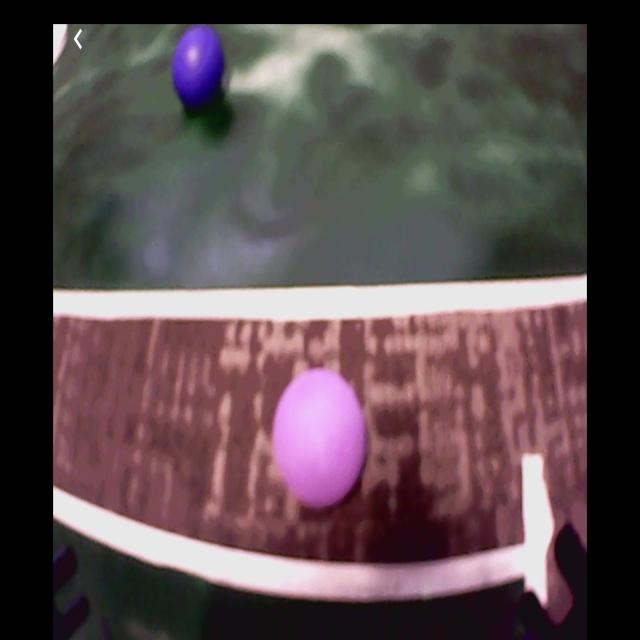ball: (274, 369, 369, 513), (171, 24, 226, 114)
